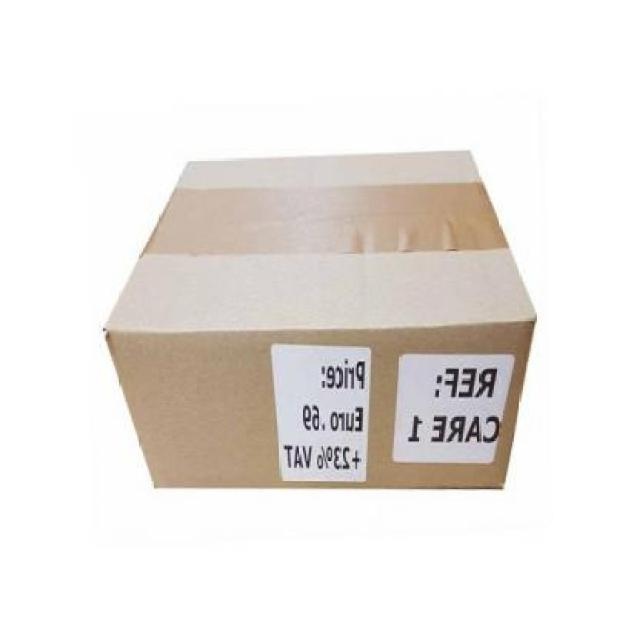cardboxes: (104, 149, 539, 496)
